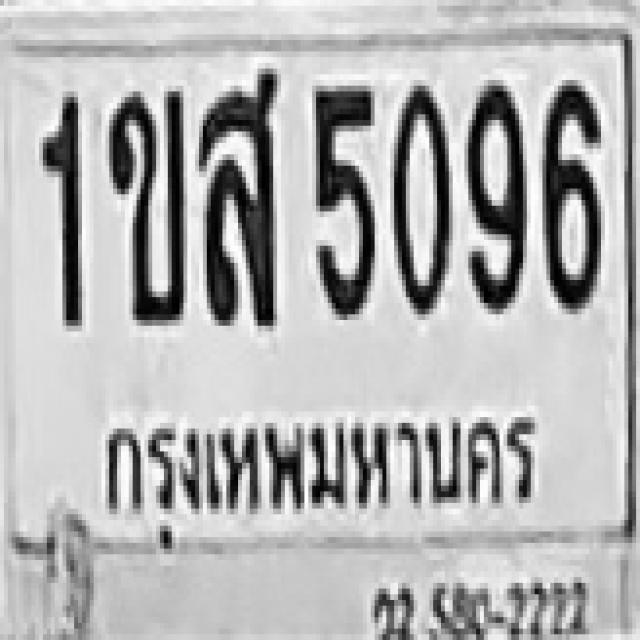0: (390, 83, 449, 311)
1: (39, 88, 78, 323)
11KhorKhai: (105, 86, 183, 320)
49SorSuea: (197, 63, 275, 320)
5: (312, 80, 371, 314)
6: (540, 80, 603, 309)
9: (466, 80, 525, 309)
Bangkok: (83, 398, 533, 550)
